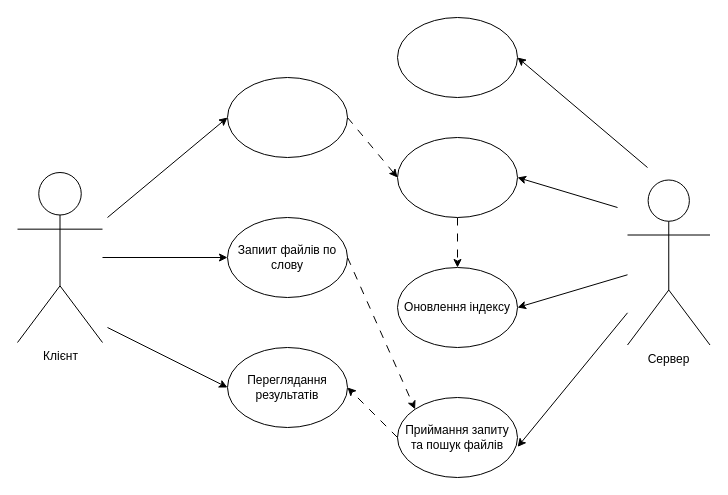
Image size: 728x495. Some labels were removed from this diagram. Each missing label, with the box of its shape:
Додавання нових файлів: (226, 76, 348, 158)
Отримання та зберігання файлів: (396, 136, 518, 218)
Створення інвертованого індексу: (396, 16, 518, 98)
